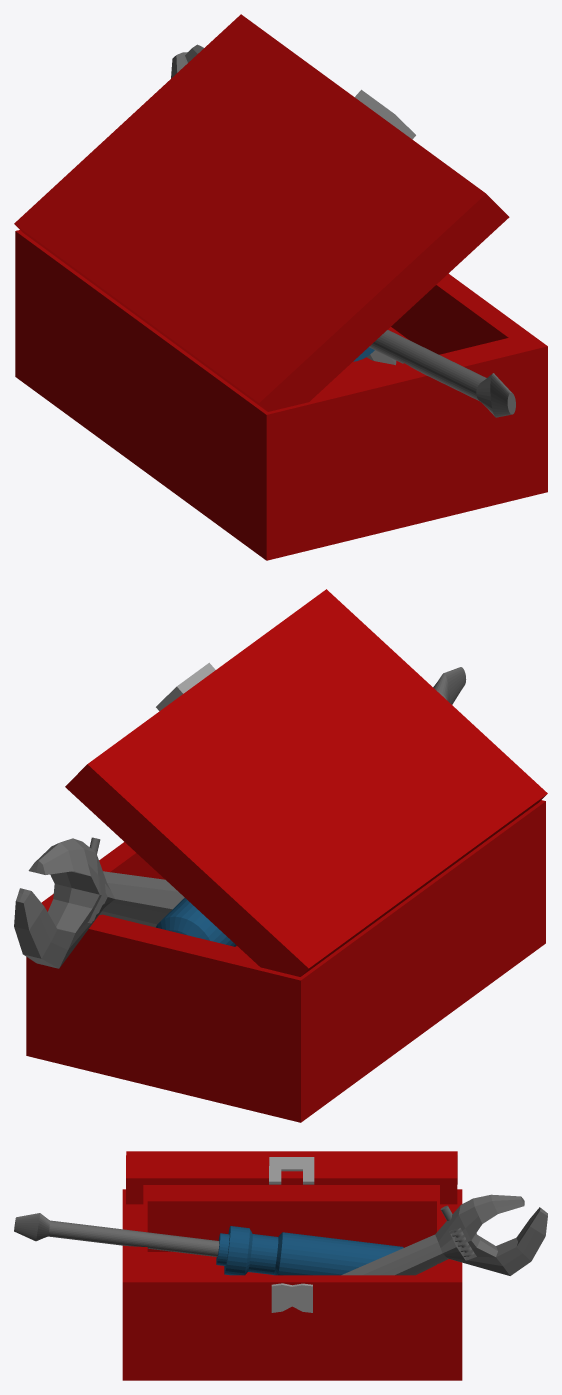
File: Boite a outil.fbx
3 renders of one model, top to bottom at view 1: azimuth 30°, elevation 25°; view 2: azimuth 150°, elevation 25°; view 3: azimuth 270°, elevation 25°, orthographic. The views are drawn at different scales.
Visible parts, largest first — view 1: Cube, Cylinder, Cylinder.006; view 2: Cube, Cylinder.006, Cylinder; view 3: Cube, Cylinder, Cylinder.006.
Part boxes in pixels (<box>): Cube: <box>14,14,547,560</box>; Cylinder: <box>353,330,515,417</box>; Cylinder.006: <box>171,44,396,365</box>; Cube: <box>26,589,547,1122</box>; Cylinder.006: <box>14,837,184,968</box>; Cylinder: <box>156,667,466,946</box>; Cube: <box>122,1151,462,1380</box>; Cylinder: <box>14,1213,403,1275</box>; Cylinder.006: <box>341,1194,547,1275</box>.
Bounding box in the file's own units: 207 × 211 × 486.
